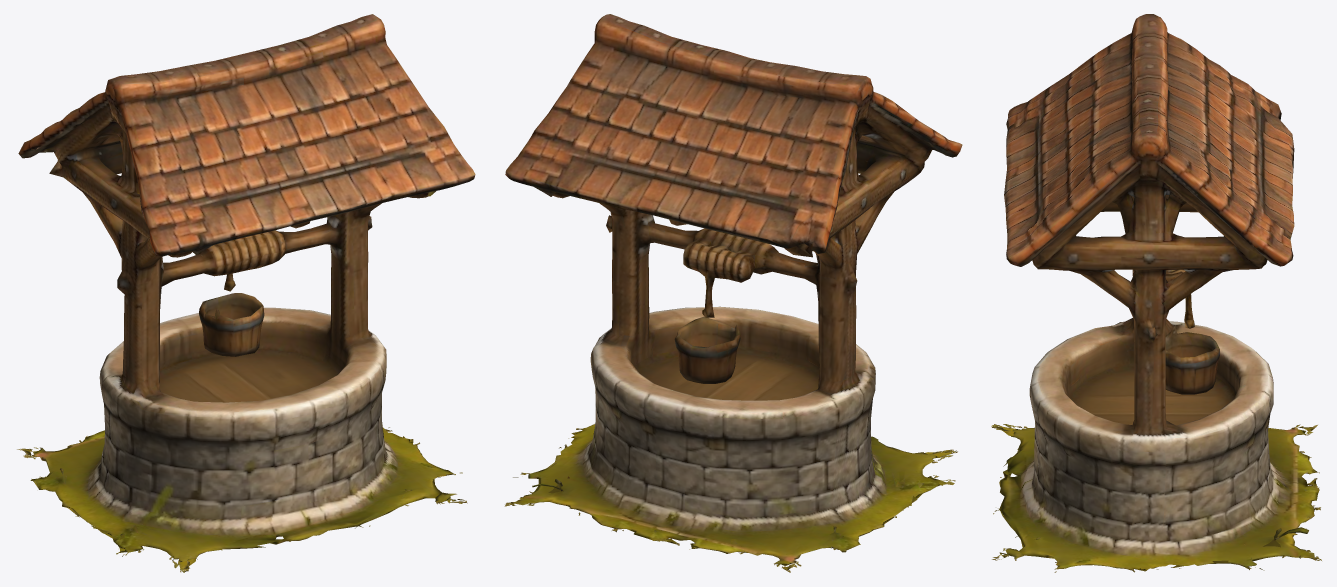
The picture shows the model from 3 angles, left to right: view 1: azimuth 30°, elevation 25°; view 2: azimuth 150°, elevation 25°; view 3: azimuth 270°, elevation 25°; orthographic projection. The views are drawn at different scales.
Visible parts, largest first — view 1: tripo_node_a9676d5f-4025-4c05-ad0e-bace45ce31f3; view 2: tripo_node_a9676d5f-4025-4c05-ad0e-bace45ce31f3; view 3: tripo_node_a9676d5f-4025-4c05-ad0e-bace45ce31f3.
Boxes of the visible parts, x1,y1,x2,y2 form: tripo_node_a9676d5f-4025-4c05-ad0e-bace45ce31f3: (17, 14, 475, 572); tripo_node_a9676d5f-4025-4c05-ad0e-bace45ce31f3: (504, 14, 962, 572); tripo_node_a9676d5f-4025-4c05-ad0e-bace45ce31f3: (991, 14, 1321, 572).
Size of the model in its own units: 0.8122 by 0.9761 by 0.6982.
1 material, 1 textured.
